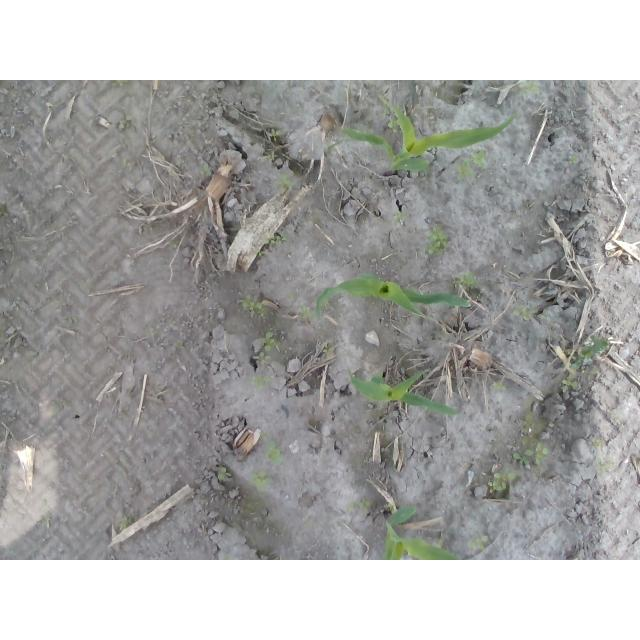Maize: (334, 94, 514, 175), (314, 272, 472, 325), (347, 368, 461, 417), (382, 504, 466, 560)
Weeds: (560, 335, 608, 396), (514, 444, 549, 469), (458, 149, 488, 175), (428, 221, 448, 255), (489, 472, 516, 496), (238, 295, 264, 318), (512, 307, 549, 320), (346, 498, 372, 516), (253, 472, 275, 492), (466, 536, 490, 553), (269, 441, 284, 464), (259, 332, 276, 352), (276, 175, 292, 195), (43, 503, 54, 529), (250, 375, 270, 389), (523, 82, 542, 95), (254, 353, 274, 364), (395, 209, 409, 223), (216, 466, 229, 481), (597, 463, 613, 475), (492, 381, 507, 392), (120, 517, 131, 532), (267, 128, 283, 137), (201, 165, 212, 178), (567, 155, 581, 165), (121, 115, 131, 129), (269, 150, 278, 162), (594, 439, 603, 450)
